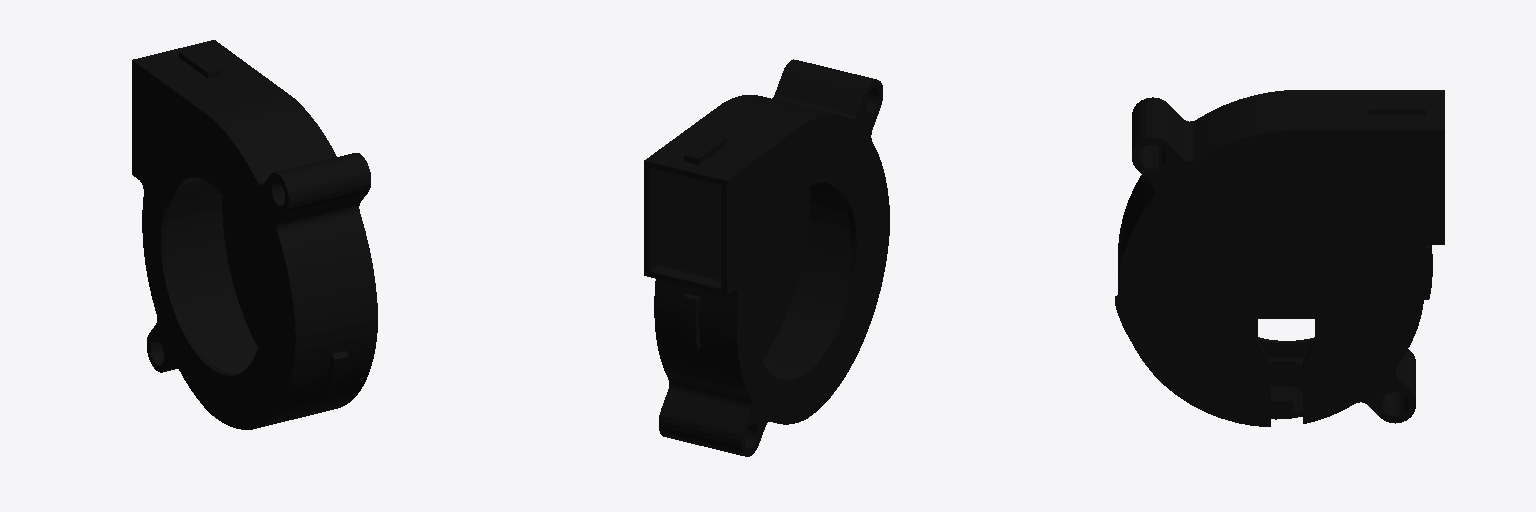
File: bear21_mk3s_simulator_print_fan.obj
The picture shows the model from 3 angles: view 1: azimuth 30°, elevation 25°; view 2: azimuth 150°, elevation 25°; view 3: azimuth 270°, elevation 25°; orthographic projection.
Parts seen in each view (by area): view 1: nozzle_fan:1; view 2: nozzle_fan:1; view 3: nozzle_fan:1.
Part boxes in pixels (left/top/right/bottom): nozzle_fan:1: left=132, top=40, right=377, bottom=429; nozzle_fan:1: left=644, top=59, right=889, bottom=456; nozzle_fan:1: left=1115, top=90, right=1444, bottom=426.
Size of the model in its own units: 1.5 by 5.26 by 5.21.